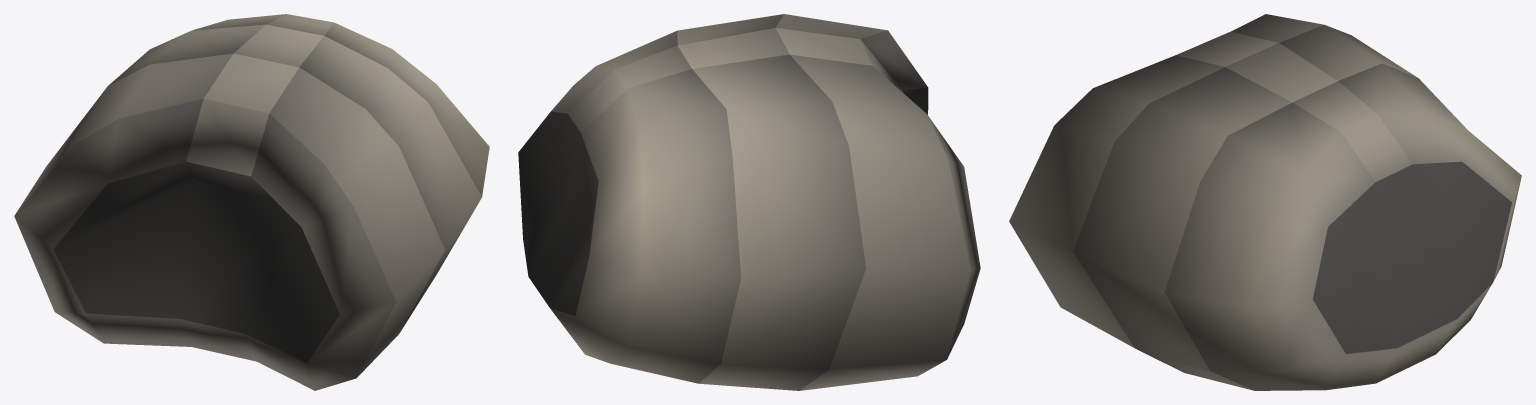
File: deco_ribcage.fbx
3 views of the same model, side by side, from view 1: azimuth 30°, elevation 25°; view 2: azimuth 150°, elevation 25°; view 3: azimuth 270°, elevation 25° (orthographic). The views are drawn at different scales.
Visible parts, largest first — view 1: deco_ribcage; view 2: deco_ribcage; view 3: deco_ribcage.
Boxes of the visible parts, left/top/right/bottom form: deco_ribcage: left=14, top=14, right=489, bottom=390; deco_ribcage: left=518, top=14, right=980, bottom=390; deco_ribcage: left=1009, top=14, right=1521, bottom=390.
Bounding box in the file's own units: 55.89 × 34.89 × 55.76.
